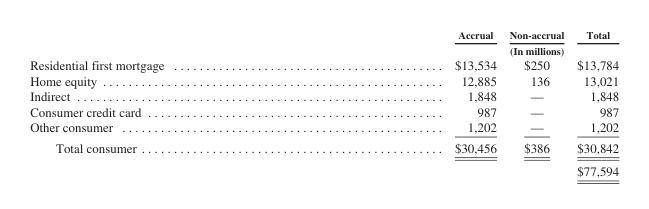table: (29, 28, 618, 177)
table column: (29, 28, 308, 177), (308, 28, 502, 177), (502, 28, 569, 177), (569, 28, 618, 177)
table column header: (29, 28, 618, 56)
table row: (29, 137, 618, 159), (29, 119, 618, 137), (29, 159, 618, 177), (29, 56, 618, 72), (29, 72, 618, 88), (29, 103, 618, 119), (29, 88, 618, 103), (29, 28, 618, 42), (29, 42, 618, 56)
table spanning cell: (308, 42, 618, 56)
